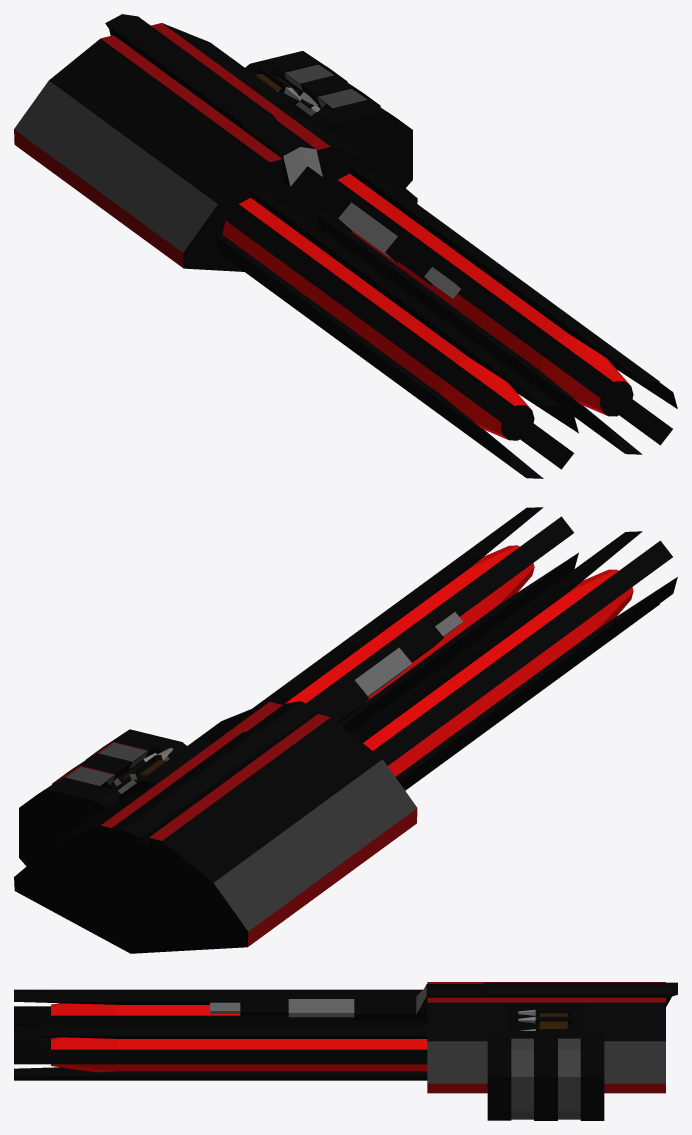
The model's file is GunDON.fbx.
3 views of the same model, one above another, from view 1: azimuth 30°, elevation 25°; view 2: azimuth 150°, elevation 25°; view 3: azimuth 270°, elevation 25° (orthographic). The views are drawn at different scales.
Parts seen in each view (by area): view 1: Куб, Цилиндр.002, Цилиндр.001, Cube.004, Cube.003, Куб.001; view 2: Куб, Цилиндр.002, Цилиндр.001, Cube.004, Cube.003, Куб.001; view 3: Цилиндр.001, Куб, Цилиндр.002, Cube.003, Cube.004, Куб.001.
Part boxes in pixels (bbox=[...]): Куб: bbox=[14, 23, 417, 271]; Цилиндр.002: bbox=[215, 191, 578, 478]; Цилиндр.001: bbox=[314, 166, 677, 454]; Cube.004: bbox=[105, 14, 460, 298]; Cube.003: bbox=[245, 51, 412, 188]; Куб.001: bbox=[254, 68, 320, 112]; Куб: bbox=[14, 701, 417, 953]; Цилиндр.002: bbox=[351, 531, 677, 790]; Цилиндр.001: bbox=[252, 507, 578, 732]; Cube.004: bbox=[107, 612, 463, 850]; Cube.003: bbox=[19, 729, 186, 866]; Куб.001: bbox=[111, 748, 172, 790]; Цилиндр.001: bbox=[14, 1024, 427, 1080]; Куб: bbox=[427, 982, 665, 1093]; Цилиндр.002: bbox=[14, 989, 427, 1040]; Cube.003: bbox=[487, 1031, 604, 1120]; Cube.004: bbox=[210, 982, 677, 1020]; Куб.001: bbox=[518, 1009, 571, 1030].
Bounding box in the file's own units: 186 × 85.5 × 557.
